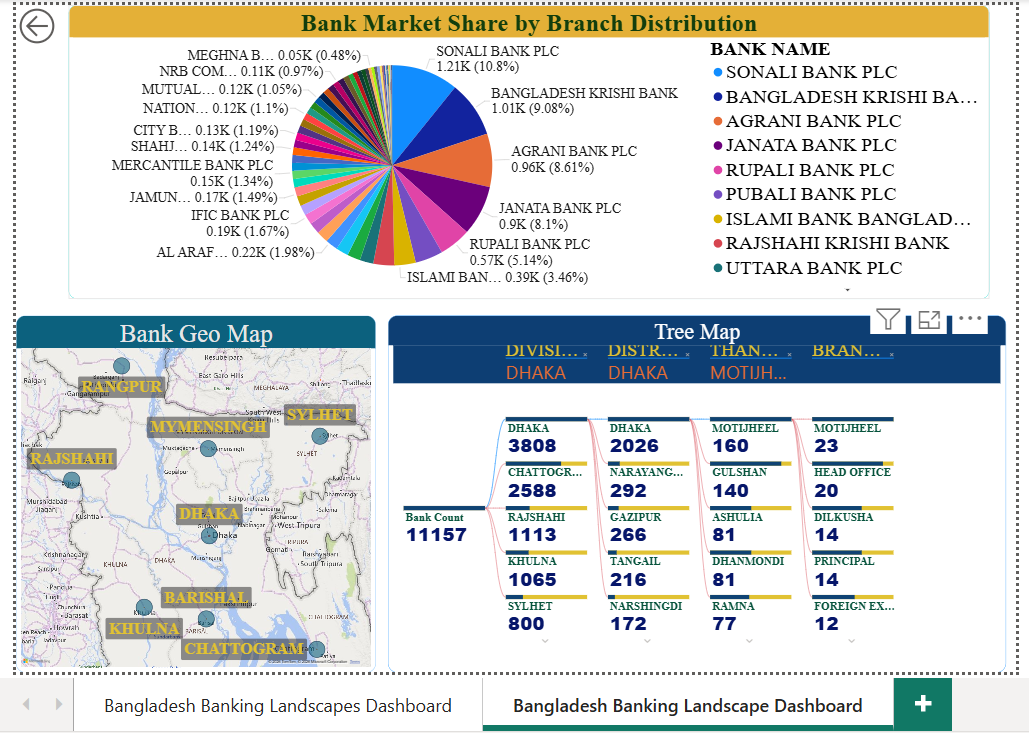

What the dashboard file says about the page in this screenshot:
{"tool":"powerbi","page":{"name":"Bangladesh Banking Landscape Dashboard ","canvas":[2400,1600],"ordinal":1},"visuals":[{"type":"map","title":"Bank Geo Map","fields":{"Category":["Sheet1.DIVISION_NAME"]},"box":[0,744.8,863.6,856.4],"z":0},{"type":"actionButton","box":[0,0,176.3,100.8],"z":1000},{"type":"decompositionTreeVisual","title":"Tree Map","fields":{"Analyze":["Sheet1.Bank Count"],"ExplainBy":["Sheet1.DIVISION_NAME","Sheet1.DISTRICT_NAME","Sheet1.THANA_NAME","Sheet1.BRANCH_NAME"]},"box":[892.4,744.8,1482.5,856.4],"z":2000},{"type":"pieChart","title":"Bank Market Share by Branch Distribution","fields":{"Y":["CountNonNull(Sheet1.Branch Count)"],"Category":["Sheet1.BANK_NAME"]},"box":[125.9,0,2209.3,705.3],"z":3000}]}

Visuals, with their boxes on the page's 2400x1600 design canvas (x1, y1, x2, y2). These are canvas units, not pixel positions in the 1029x733 screenshot, which may show the page scaled, cropped or inside an application window:
"Bank Geo Map" map: {"x1": 0, "y1": 745, "x2": 864, "y2": 1601}
actionButton: {"x1": 0, "y1": 0, "x2": 176, "y2": 101}
"Tree Map" decompositionTreeVisual: {"x1": 892, "y1": 745, "x2": 2375, "y2": 1601}
"Bank Market Share by Branch Distribution" pieChart: {"x1": 126, "y1": 0, "x2": 2335, "y2": 705}
